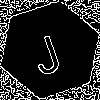J: (25, 25, 65, 77)
